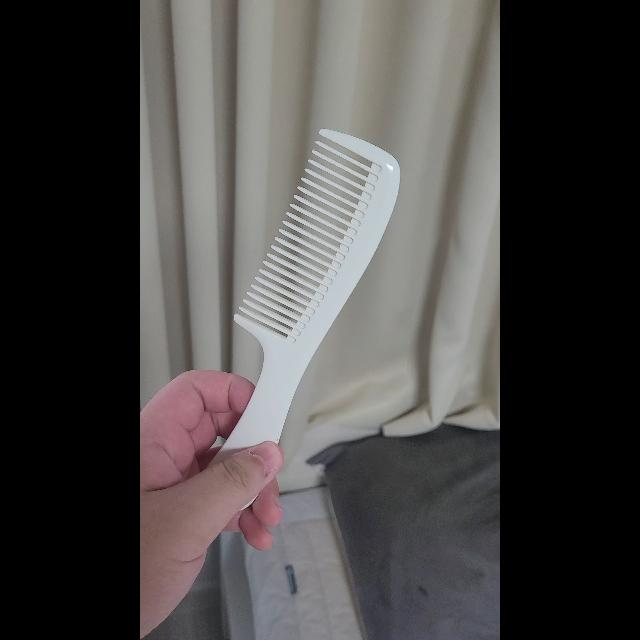COMB: (205, 128, 401, 512)
